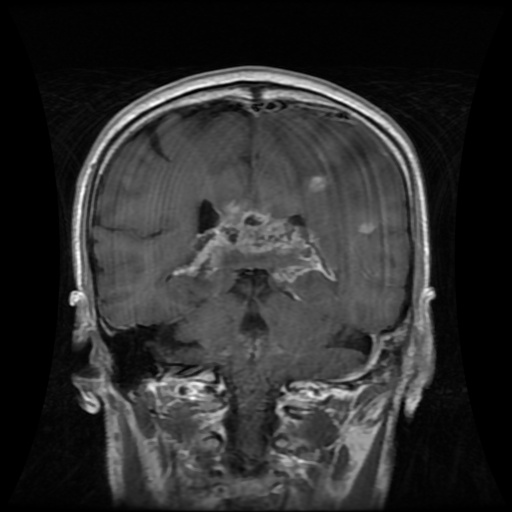glioma: (172, 200, 337, 283)
